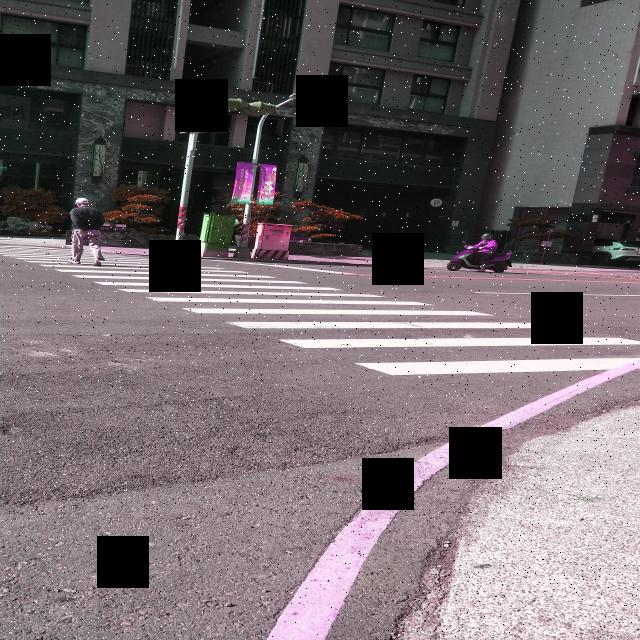zebra_crossing: (249, 128, 640, 371), (52, 122, 152, 364), (102, 129, 104, 372)
